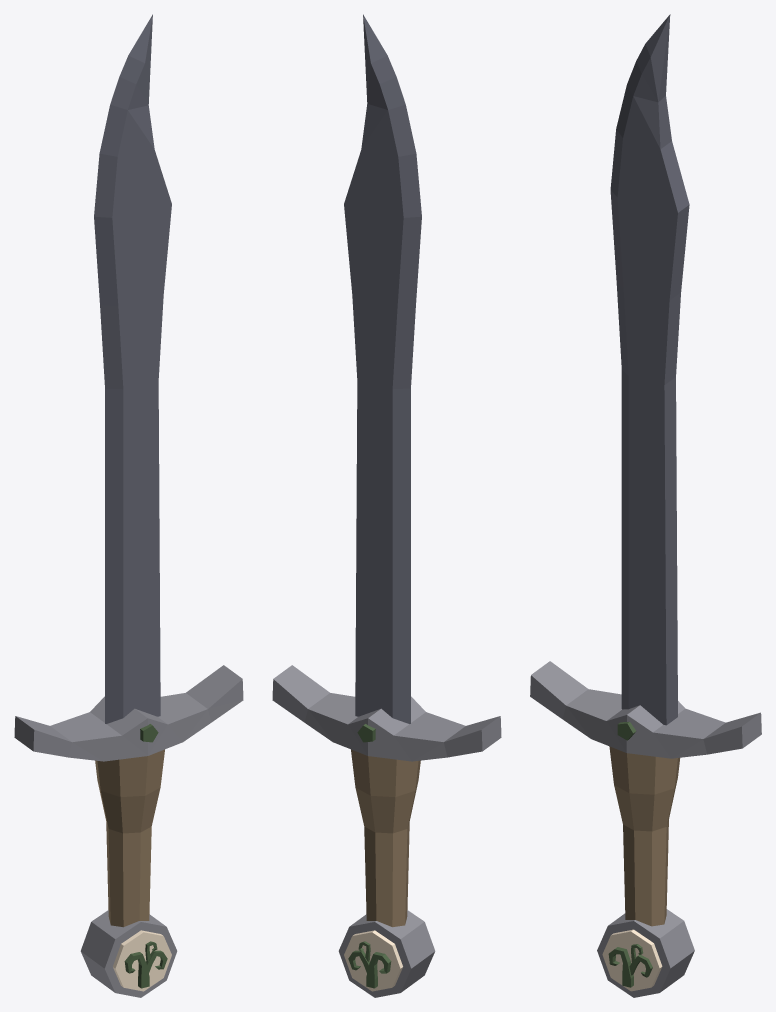
File: _sword_10.fbx
3 views of the same model, side by side, from view 1: azimuth 30°, elevation 25°; view 2: azimuth 150°, elevation 25°; view 3: azimuth 330°, elevation 25° (orthographic).
Parts seen in each view (by area): view 1: sword_10; view 2: sword_10; view 3: sword_10.
Boxes of the visible parts, x1=… form: sword_10: x1=14, y1=14, x2=243, y2=997; sword_10: x1=272, y1=14, x2=501, y2=997; sword_10: x1=530, y1=14, x2=761, y2=997.
Bounding box in the file's own units: 24.56 × 108 × 8.54.
